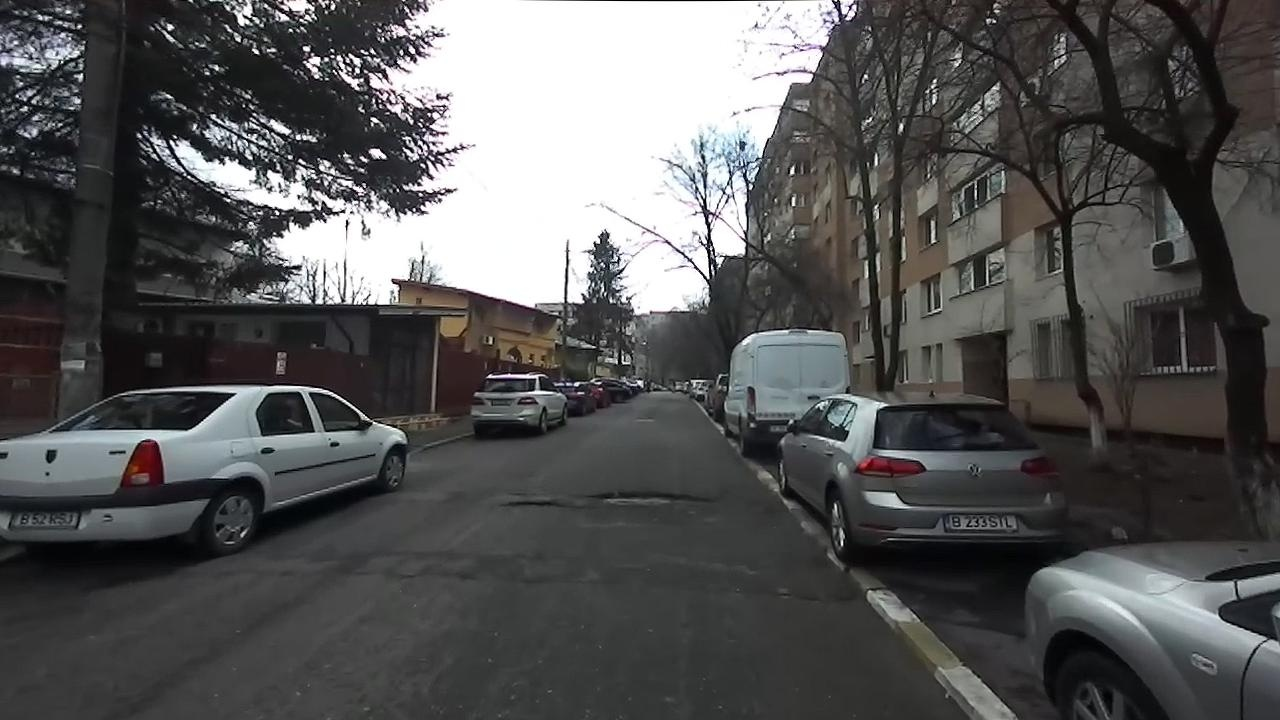pothole: (584, 488, 719, 510), (769, 583, 848, 606), (497, 496, 577, 509)
